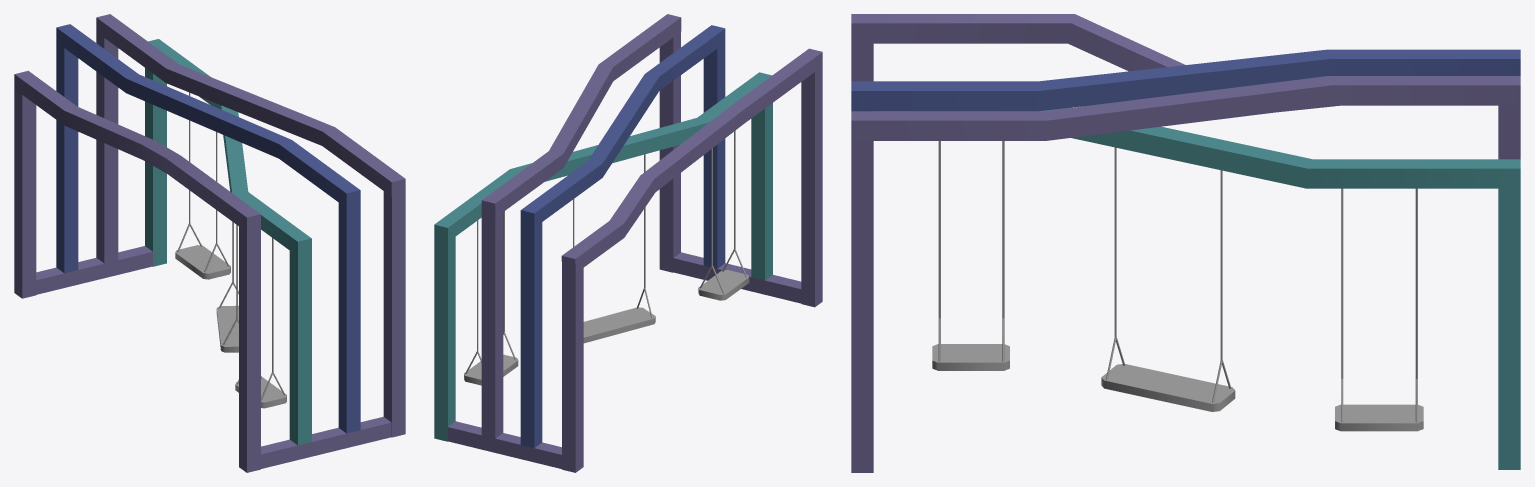
The picture shows the model from 3 angles, left to right: view 1: azimuth 30°, elevation 25°; view 2: azimuth 150°, elevation 25°; view 3: azimuth 270°, elevation 25°; orthographic projection. The views are drawn at different scales.
Visible parts, largest first — view 1: SM_241; view 2: SM_241; view 3: SM_241.
Boxes of the visible parts, x1,y1,x2,y2 form: SM_241: (14, 14, 405, 472); SM_241: (434, 14, 822, 472); SM_241: (851, 14, 1520, 472).
Size of the model in its own units: 2.31 by 3.49 by 6.01.
